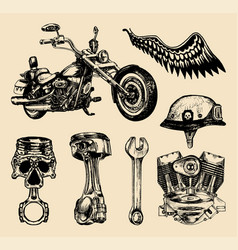with_helmet: (160, 94, 226, 131)
